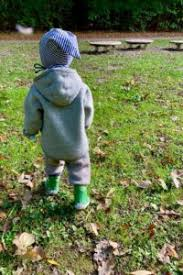child: (20, 27, 102, 213)
